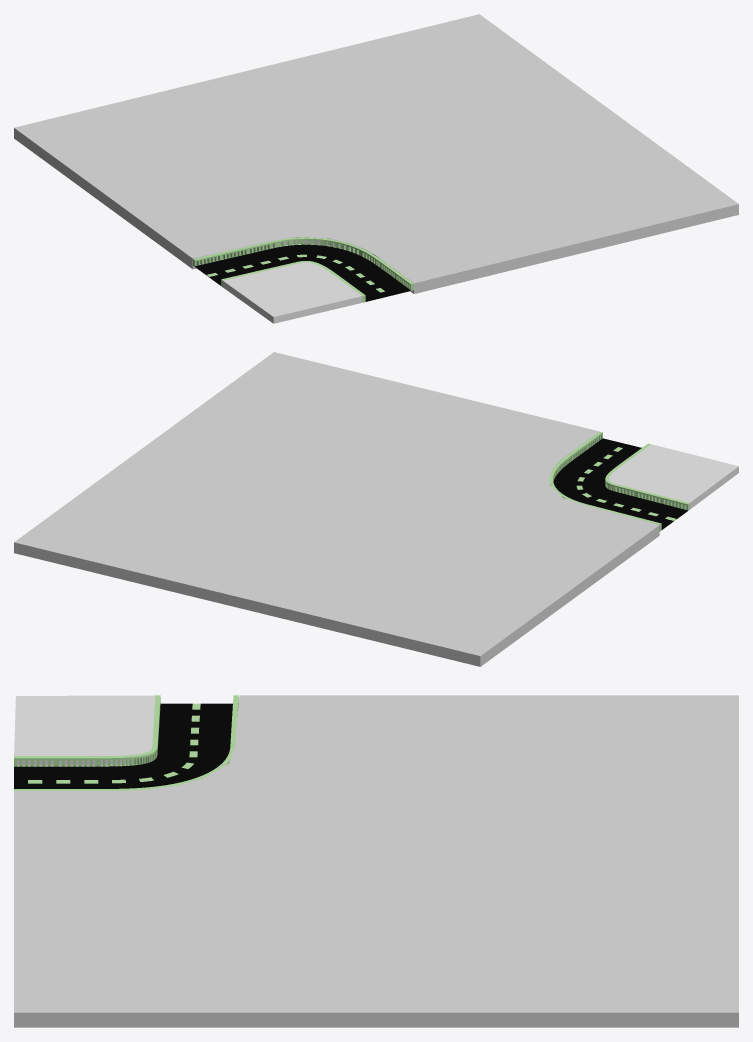
The model's file is Sci-Fi_RaceTrackDownLeft2.fbx.
3 views of the same model, one above another, from view 1: azimuth 30°, elevation 25°; view 2: azimuth 150°, elevation 25°; view 3: azimuth 270°, elevation 25° (orthographic). The views are drawn at different scales.
Parts seen in each view (by area): view 1: LeftRoad, RightRoad, Plane, LeftWall; view 2: LeftRoad, RightRoad, Plane, RightWall, LeftWall; view 3: LeftRoad, RightRoad, Plane, RightWall, LeftWall.
Part boxes in pixels (x1,y1,x2,y2): LeftRoad: (14,14,738,293); RightRoad: (223,262,362,323); Plane: (195,244,410,301); LeftWall: (193,237,413,290); LeftRoad: (14,352,659,666); RightRoad: (609,444,738,509); Plane: (553,438,687,529); RightWall: (605,443,689,510); LeftWall: (549,431,661,531); LeftRoad: (14,695,738,1027); RightRoad: (14,695,155,765); Plane: (14,703,232,788); RightWall: (14,695,160,766); LeftWall: (14,695,238,790).
Bounding box in the file's own units: 9024 × 200 × 8713.
